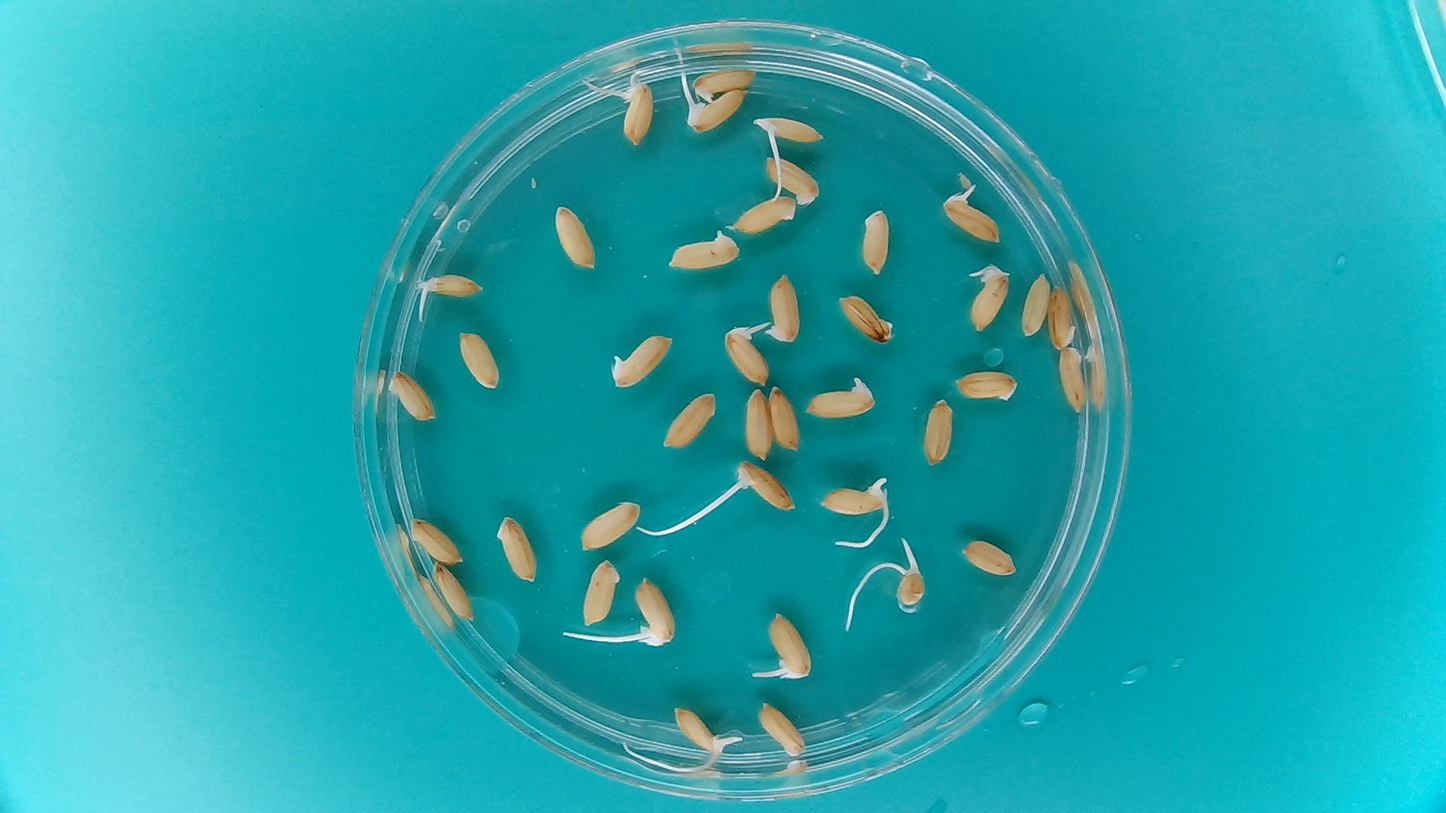no: (848, 198, 901, 283), (606, 330, 676, 391), (659, 390, 720, 452), (762, 609, 813, 681), (578, 497, 644, 551), (550, 201, 599, 273), (834, 291, 898, 346), (493, 512, 539, 585), (761, 152, 824, 205), (406, 514, 466, 568), (428, 559, 475, 626), (728, 191, 799, 235), (579, 557, 622, 629), (756, 699, 807, 758), (457, 327, 502, 391), (386, 367, 438, 422), (685, 65, 758, 102), (920, 395, 956, 467), (958, 536, 1019, 578), (741, 384, 774, 461), (951, 367, 1021, 403), (767, 382, 801, 454), (1057, 343, 1090, 415), (1017, 269, 1051, 338), (1047, 282, 1078, 352)
yes: (670, 702, 743, 770), (939, 178, 1003, 245), (626, 574, 676, 650), (664, 226, 743, 272), (721, 319, 773, 387), (963, 261, 1012, 333), (802, 375, 879, 420), (611, 74, 657, 149), (732, 458, 798, 510), (680, 86, 750, 134), (817, 477, 894, 520), (762, 271, 803, 347), (749, 110, 828, 147), (413, 269, 487, 304), (886, 559, 929, 611)
